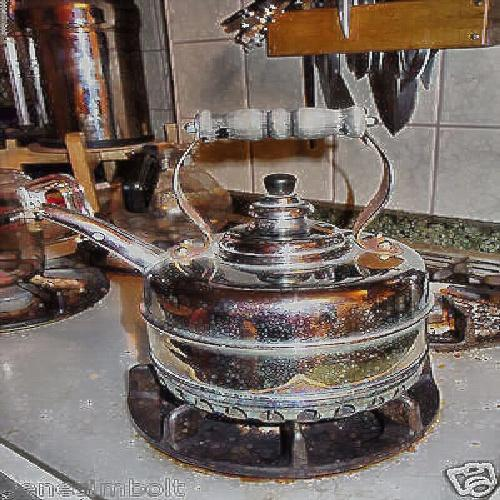kettle: (97, 156, 442, 462)
